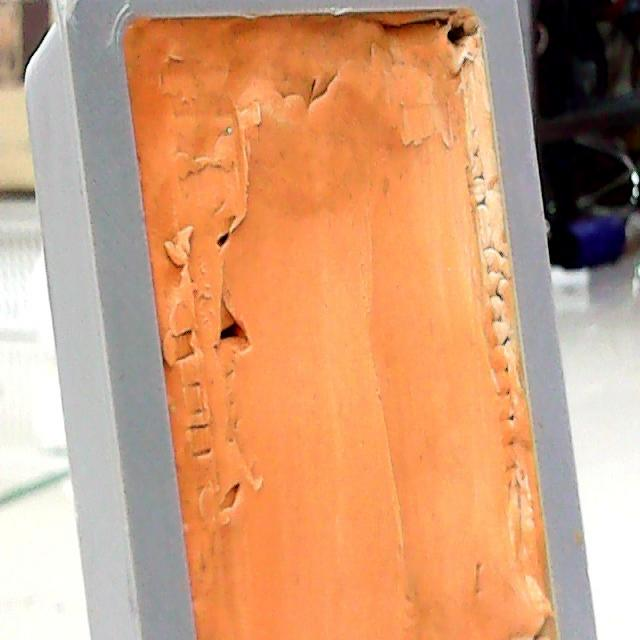block: (23, 1, 603, 636)
